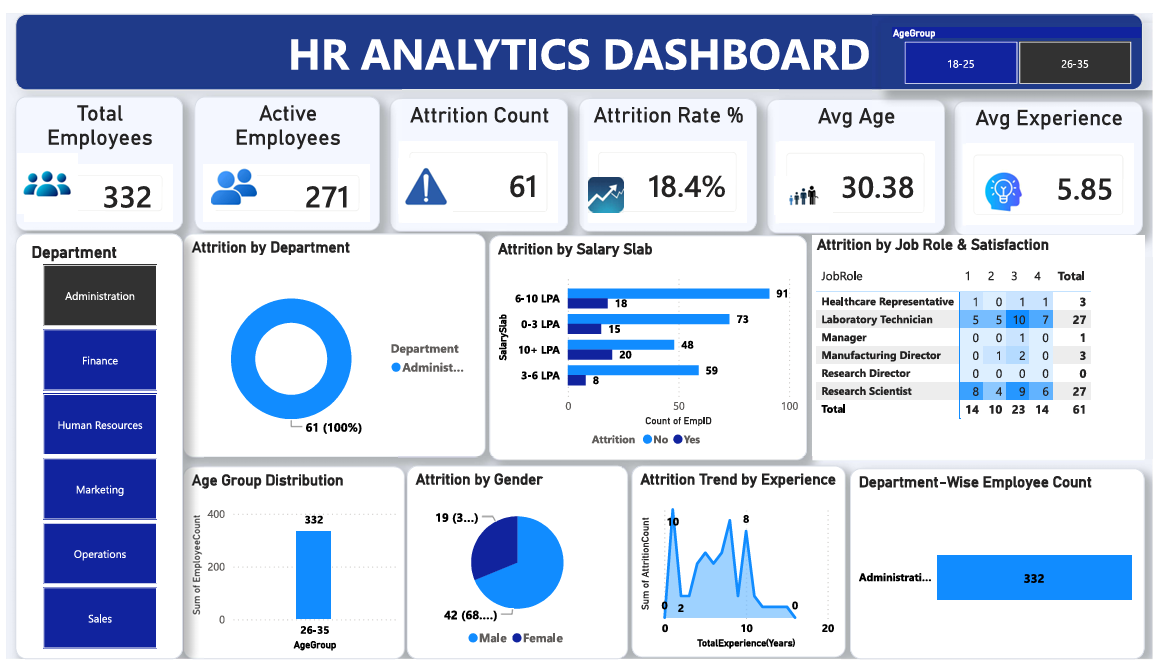

What the dashboard file says about the page in this screenshot:
{"tool":"powerbi","page":{"name":"Page 1","canvas":[1280,720],"ordinal":0},"visuals":[{"type":"textbox","box":[10,0,1259,85],"z":0},{"type":"cardVisual","title":"Total Employees","fields":{"Data":["CountNonNull(HR_Analytics-4.EmpID)"]},"box":[10,91.7,186.7,150],"z":1000},{"type":"cardVisual","title":"Avg Experience","fields":{"Data":["Avg(HR_Analytics-4.YearsatCompany)"]},"box":[1057.8,97,211.6,149.5],"z":2000},{"type":"cardVisual","title":"Avg Age","fields":{"Data":["Avg(HR_Analytics-4.Age)"]},"box":[849.4,95.4,198.8,149.5],"z":3000},{"type":"cardVisual","title":"Attrition Rate %","fields":{"Data":["HR_Analytics-4.Attrition Rate %"]},"box":[639.4,93.8,198.8,149.5],"z":4000},{"type":"cardVisual","title":"Attrition Count","fields":{"Data":["Sum(HR_Analytics-4.AttritionCount)"]},"box":[427.9,93.8,198.8,149.5],"z":5000},{"type":"cardVisual","title":"Active Employees","fields":{"Data":["CountNonNull(HR_Analytics-4.EmployeeCount)"]},"box":[210,91.7,206.7,150],"z":6000},{"type":"image","box":[228.7,155.9,50.6,72.9],"z":7000},{"type":"image","box":[410.9,161.9,115.4,60.7],"z":8000},{"type":"image","box":[858.3,176.1,64.8,52.6],"z":9000},{"type":"image","box":[1076.9,174.1,72.9,48.6],"z":10000},{"type":"image","box":[625.5,182.2,87,38.5],"z":11000},{"type":"image","box":[0,155.9,91.1,66.8],"z":12000},{"type":"donutChart","title":"Attrition by Department","fields":{"Category":["HR_Analytics-4.Department"],"Y":["Sum(HR_Analytics-4.AttritionCount)"]},"box":[196.7,245,338.3,250],"z":13000},{"type":"clusteredBarChart","title":"Attrition by Salary Slab","fields":{"Category":["HR_Analytics-4.SalarySlab"],"Series":["HR_Analytics-4.Attrition"],"Y":["CountNonNull(HR_Analytics-4.EmpID)"]},"box":[539.2,246.5,354.7,251.3],"z":14000},{"type":"pivotTable","title":"Attrition by Job Role & Satisfaction","fields":{"Columns":["HR_Analytics-4.JobSatisfaction"],"Rows":["HR_Analytics-4.JobRole"],"Values":["Sum(HR_Analytics-4.AttritionCount)"]},"box":[900.3,246.5,370.6,251.3],"z":15000},{"type":"columnChart","title":"Age Group Distribution","fields":{"Category":["HR_Analytics-4.AgeGroup"],"Y":["Sum(HR_Analytics-4.EmployeeCount)"]},"box":[196.7,505,248.3,215],"z":16000},{"type":"pieChart","title":"Attrition by Gender","fields":{"Category":["HR_Analytics-4.Gender"],"Y":["Sum(HR_Analytics-4.AttritionCount)"]},"box":[447,503.7,246.5,216.3],"z":17000},{"type":"areaChart","title":"Attrition Trend by Experience","fields":{"Category":["HR_Analytics-4.TotalExperience(Years)"],"Y":["Sum(HR_Analytics-4.AttritionCount)"]},"box":[697.6,504.2,239,214],"z":17001},{"type":"funnel","title":"Department-Wise Employee Count","fields":{"Category":["HR_Analytics-4.Department"],"Y":["CountNonNull(HR_Analytics-4.EmpID)"]},"box":[941.6,506.9,329.3,213.1],"z":17002},{"type":"slicer","fields":{"Values":["HR_Analytics-4.Department"]},"box":[10,245,186.7,475],"z":17003},{"type":"slicer","fields":{"Values":["HR_Analytics-4.AgeGroup"]},"box":[976.7,10,303.3,75],"z":17004}]}

Visuals, with their boxes in screenshot pixels (x1, y1, x2, y2), scaled from the page's 1280x720 canvas onto the 1158x664 screenshot:
textbox: {"left": 9, "top": 0, "right": 1148, "bottom": 78}
"Total Employees" cardVisual: {"left": 9, "top": 85, "right": 178, "bottom": 223}
"Avg Experience" cardVisual: {"left": 957, "top": 89, "right": 1148, "bottom": 227}
"Avg Age" cardVisual: {"left": 768, "top": 88, "right": 948, "bottom": 226}
"Attrition Rate %" cardVisual: {"left": 578, "top": 87, "right": 758, "bottom": 224}
"Attrition Count" cardVisual: {"left": 387, "top": 87, "right": 567, "bottom": 224}
"Active Employees" cardVisual: {"left": 190, "top": 85, "right": 377, "bottom": 223}
image: {"left": 207, "top": 144, "right": 253, "bottom": 211}
image: {"left": 372, "top": 149, "right": 476, "bottom": 205}
image: {"left": 776, "top": 162, "right": 835, "bottom": 211}
image: {"left": 974, "top": 161, "right": 1040, "bottom": 205}
image: {"left": 566, "top": 168, "right": 645, "bottom": 204}
image: {"left": 0, "top": 144, "right": 82, "bottom": 205}
"Attrition by Department" donutChart: {"left": 178, "top": 226, "right": 484, "bottom": 456}
"Attrition by Salary Slab" clusteredBarChart: {"left": 488, "top": 227, "right": 809, "bottom": 459}
"Attrition by Job Role & Satisfaction" pivotTable: {"left": 814, "top": 227, "right": 1150, "bottom": 459}
"Age Group Distribution" columnChart: {"left": 178, "top": 466, "right": 403, "bottom": 663}
"Attrition by Gender" pieChart: {"left": 404, "top": 465, "right": 627, "bottom": 663}
"Attrition Trend by Experience" areaChart: {"left": 631, "top": 465, "right": 847, "bottom": 662}
"Department-Wise Employee Count" funnel: {"left": 852, "top": 467, "right": 1150, "bottom": 663}
slicer - HR_Analytics-4.Department: {"left": 9, "top": 226, "right": 178, "bottom": 663}
slicer - HR_Analytics-4.AgeGroup: {"left": 884, "top": 9, "right": 1157, "bottom": 78}
